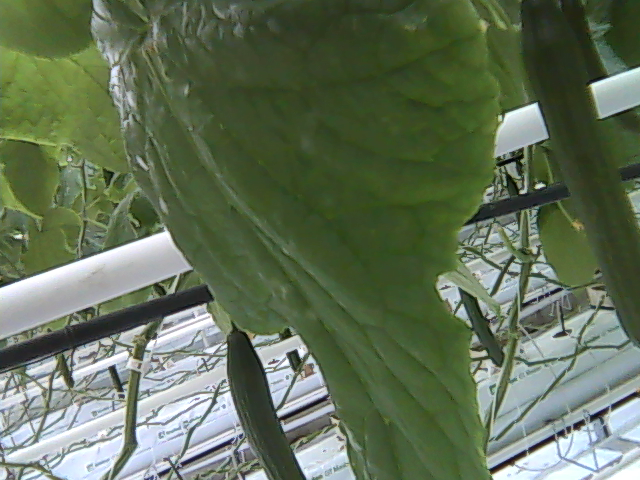concombre: (516, 2, 640, 347), (224, 323, 312, 480)
